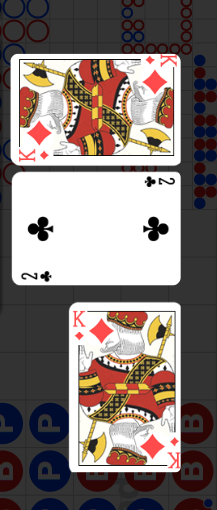2C: (20, 269, 54, 282)
